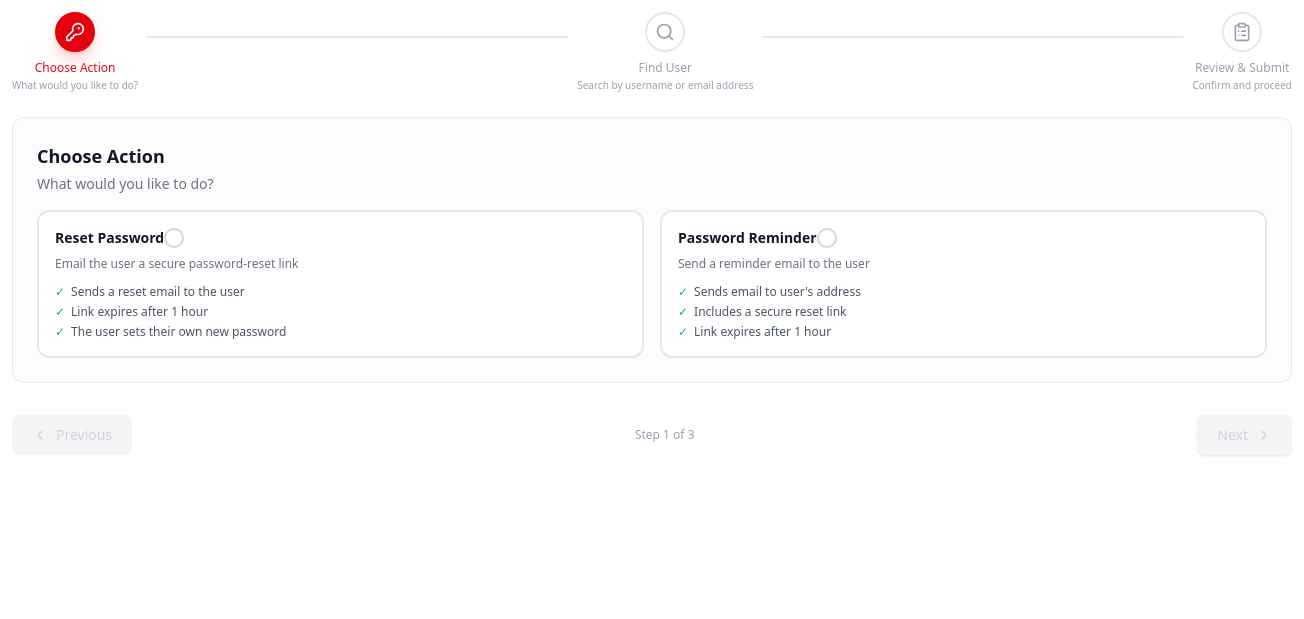
Test: PasswordForm Component › Step 2 — Find User Validation › advances to step 3 after successful lookup
Click the text "Reset Password". click: (110, 238)
box: [55, 228, 164, 248]
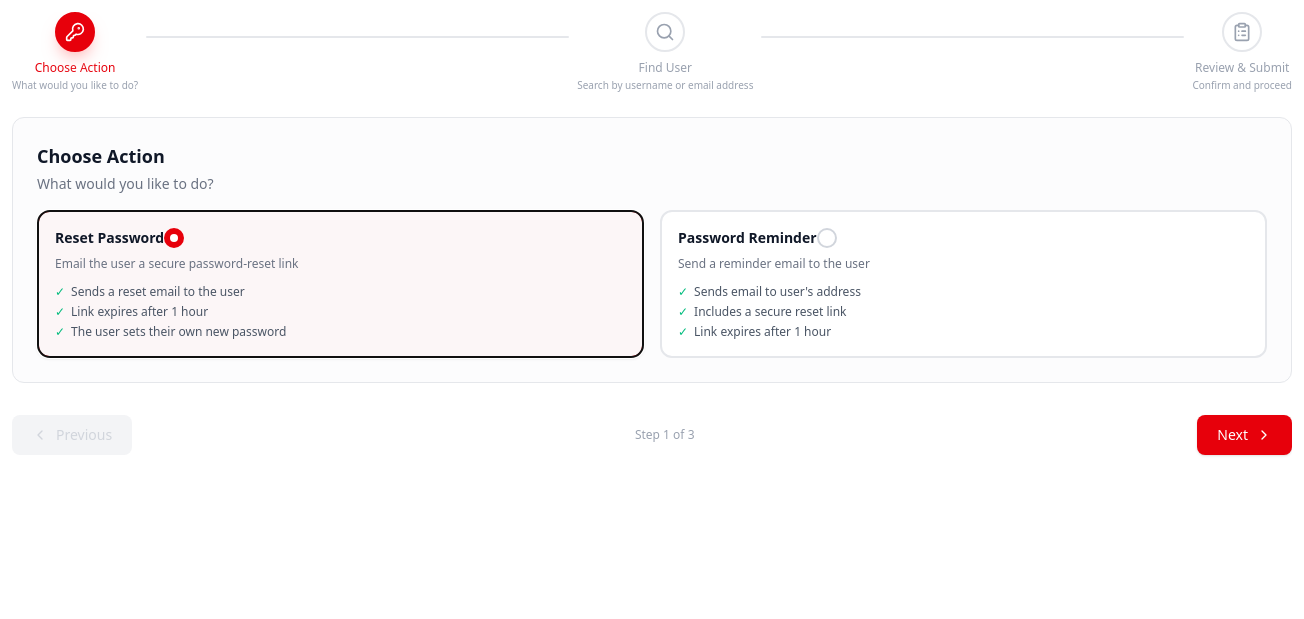
Click the button "Next". click: (1245, 435)
box: [1197, 415, 1292, 455]
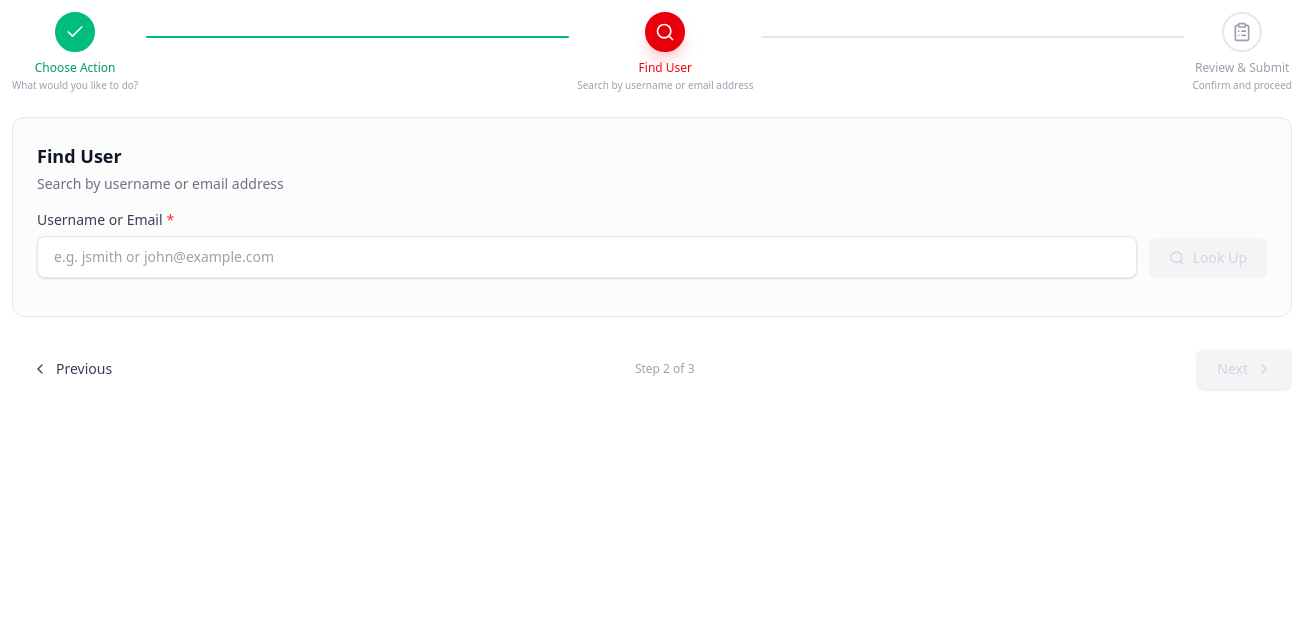
Type "alice" into the field with placeholder "e.g. jsmith or john@example.com". click: (587, 257)
box: [37, 236, 1137, 278]
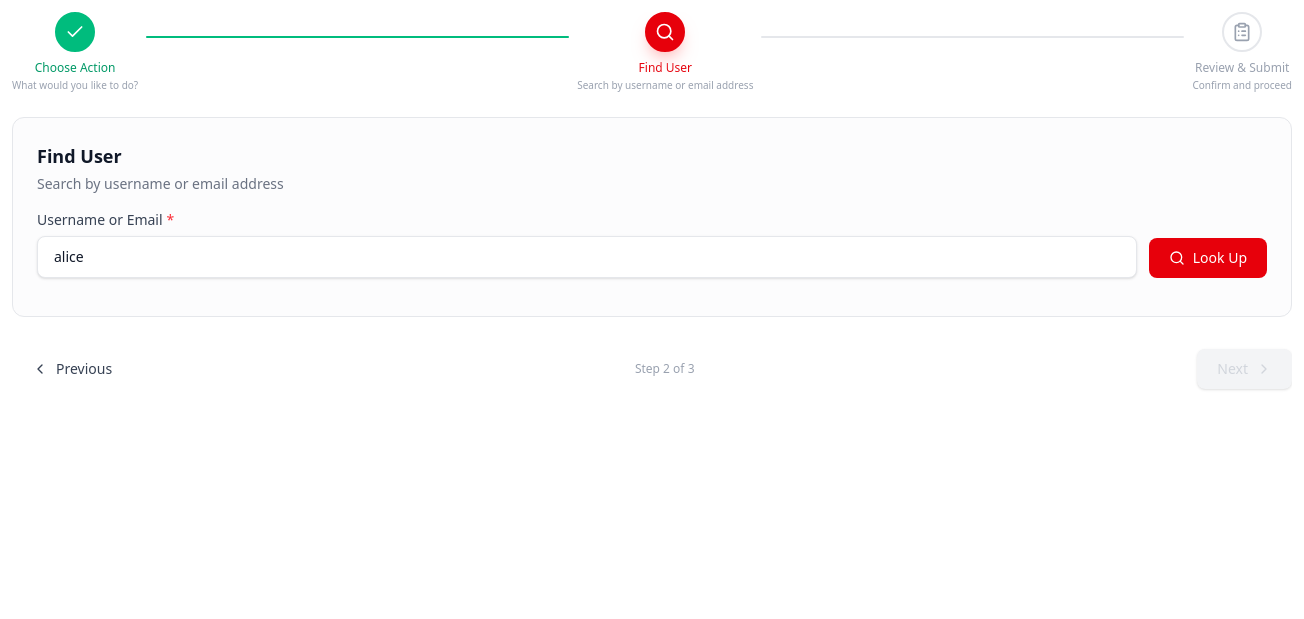
Click the button "Look Up". click: (1208, 258)
box: [1149, 238, 1267, 278]
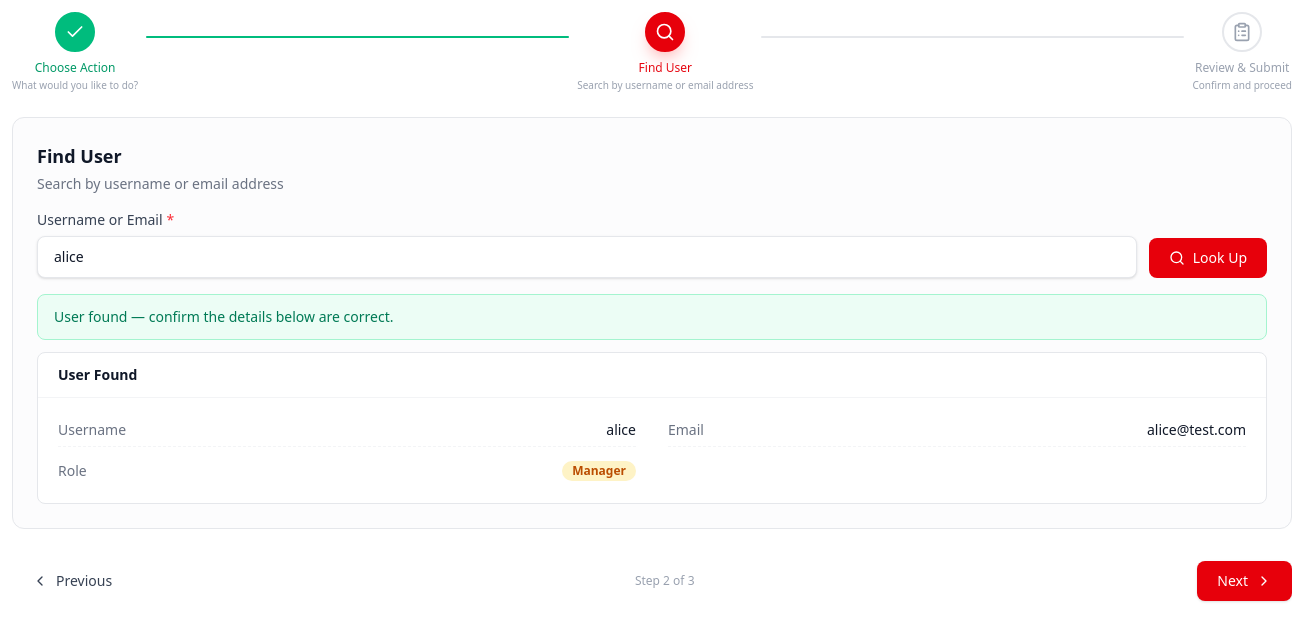
Expected: the text "alice" is shown, [606, 420, 636, 440]
Click the button "Next". click: (1245, 581)
box: [1197, 561, 1292, 601]
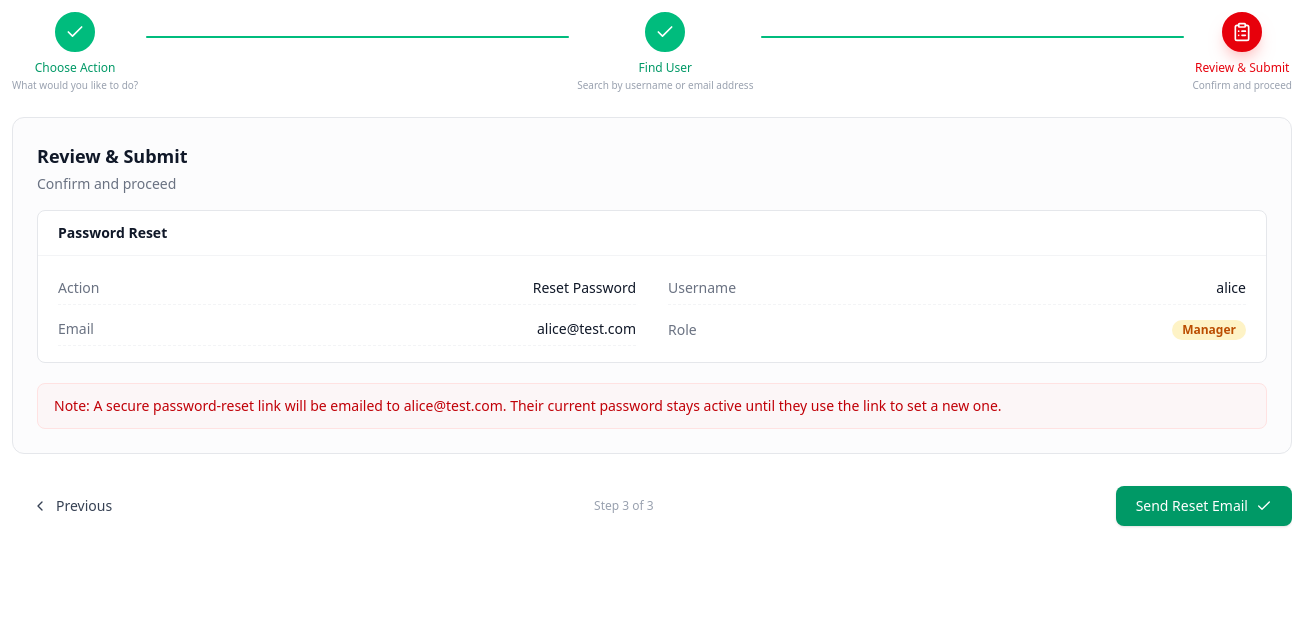
Expected: the heading "Review & Submit" is shown, [37, 144, 188, 168]
